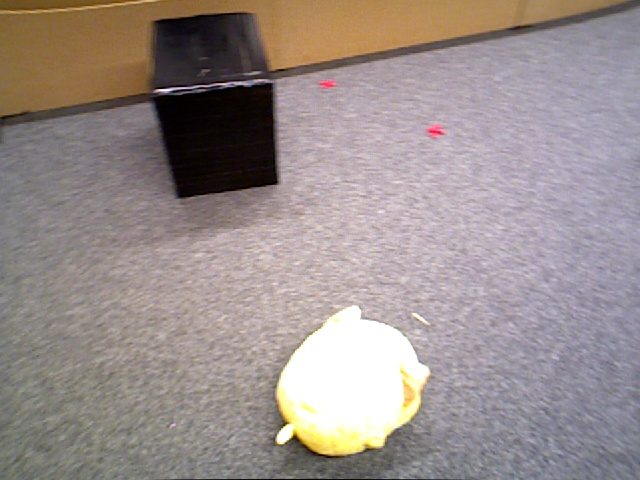grasp: (276, 317, 424, 456)
push: (148, 11, 279, 203)
